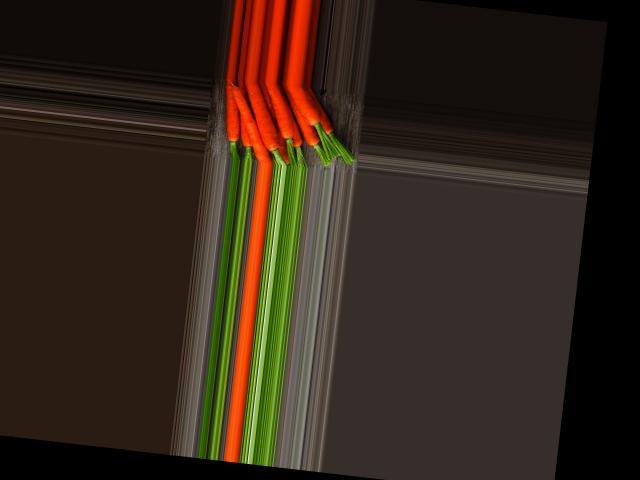carrot: (284, 87, 325, 159)
